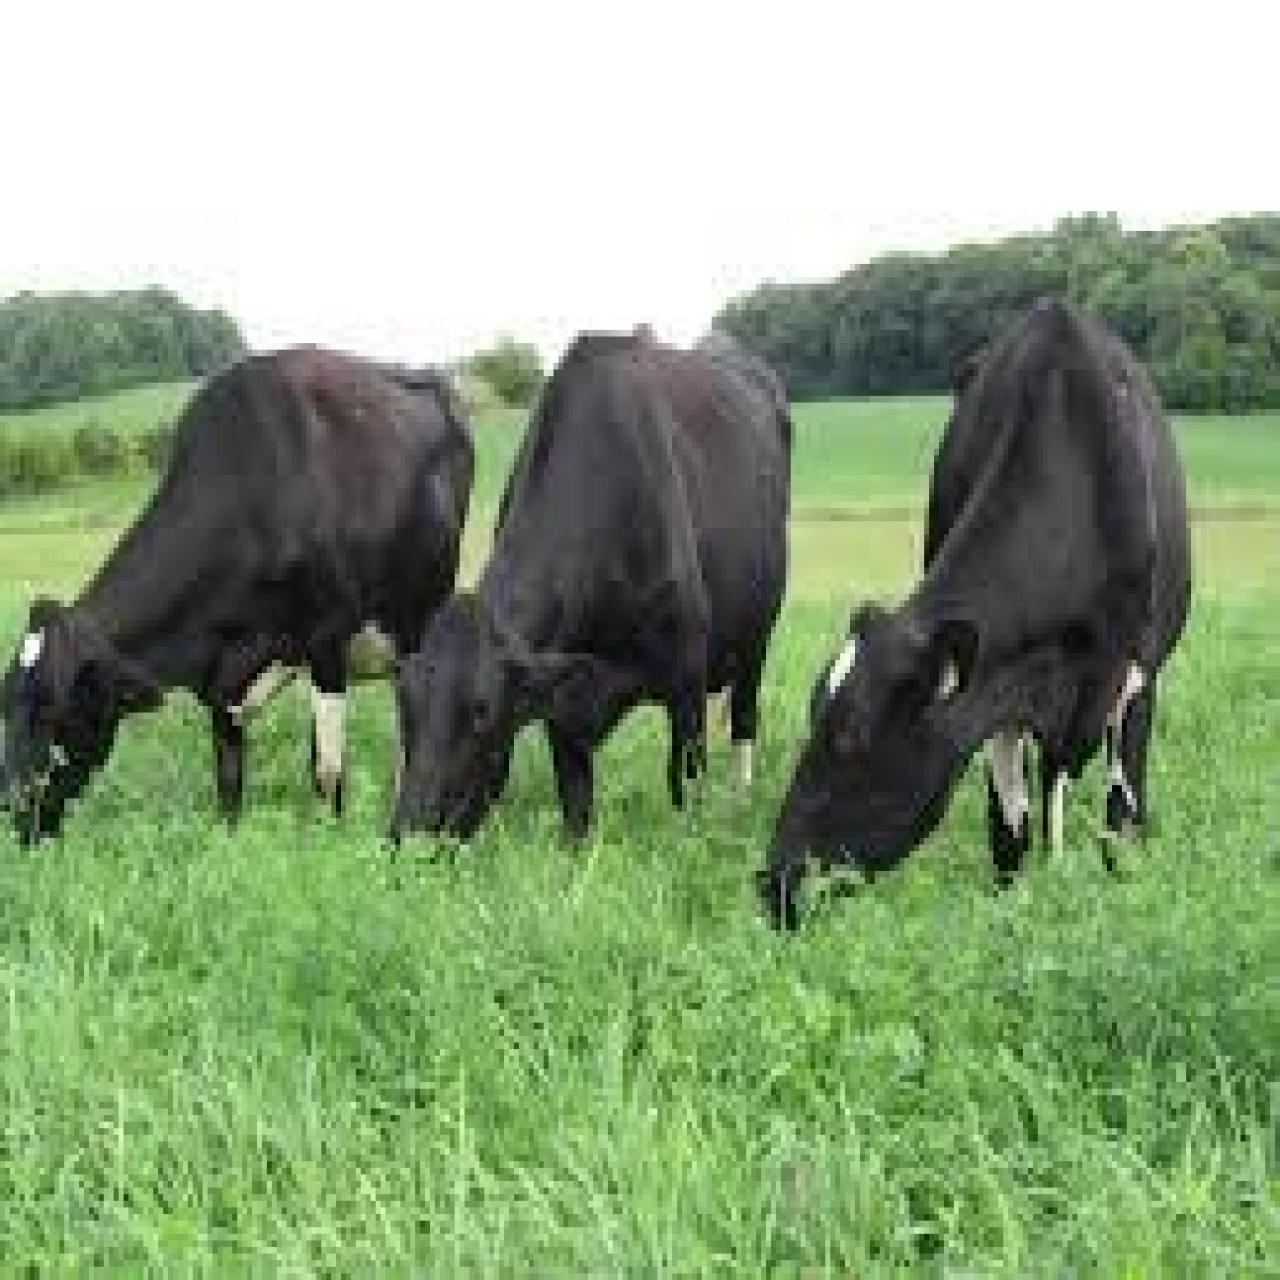cow: (751, 287, 1196, 934), (0, 346, 484, 855), (349, 324, 798, 865)
